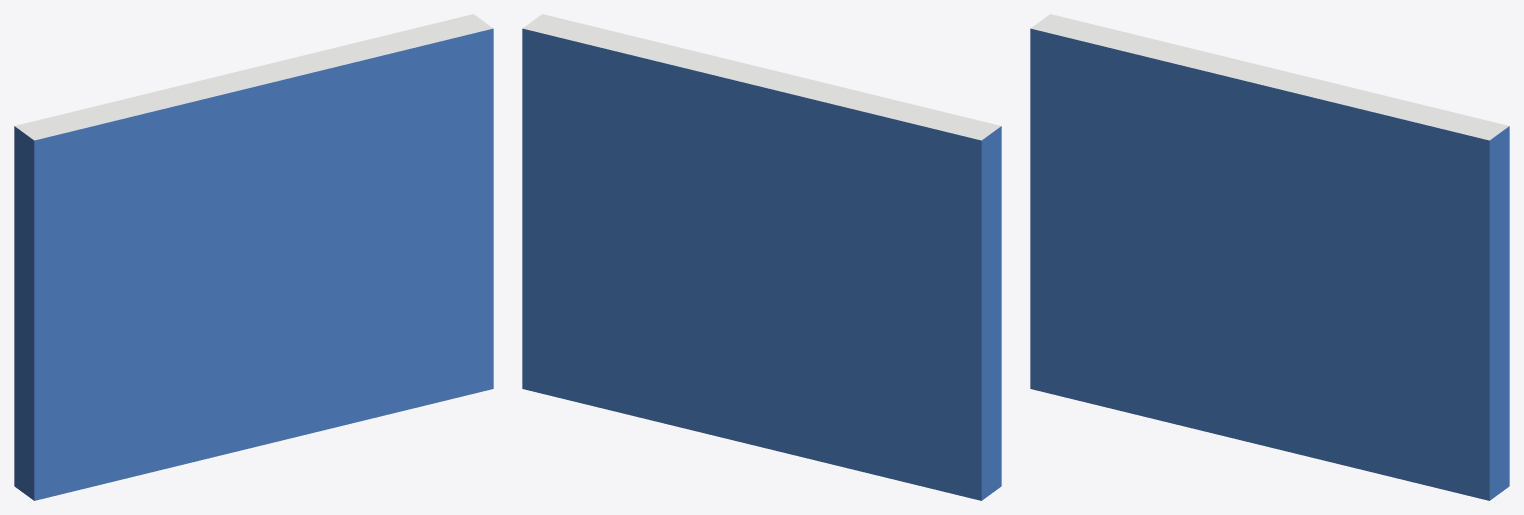
File: parede_complemento_1_5m_2m.glb
3 views of the same model, side by side, from view 1: azimuth 30°, elevation 25°; view 2: azimuth 150°, elevation 25°; view 3: azimuth 330°, elevation 25° (orthographic).
Parts seen in each view (by area): view 1: parede_complemento_1_5m_2m; view 2: parede_complemento_1_5m_2m; view 3: parede_complemento_1_5m_2m.
Boxes of the visible parts, x1,y1,x2,y2 form: parede_complemento_1_5m_2m: (14,14,493,500); parede_complemento_1_5m_2m: (522,14,1001,500); parede_complemento_1_5m_2m: (1030,14,1509,500).
Bounding box in the file's own units: 2 × 1.5 × 0.15.
